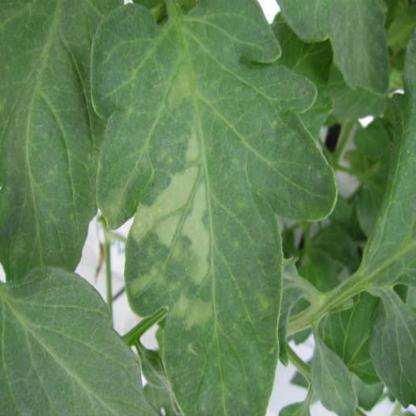tomato leaf bacterial spot: (89, 14, 336, 414)
